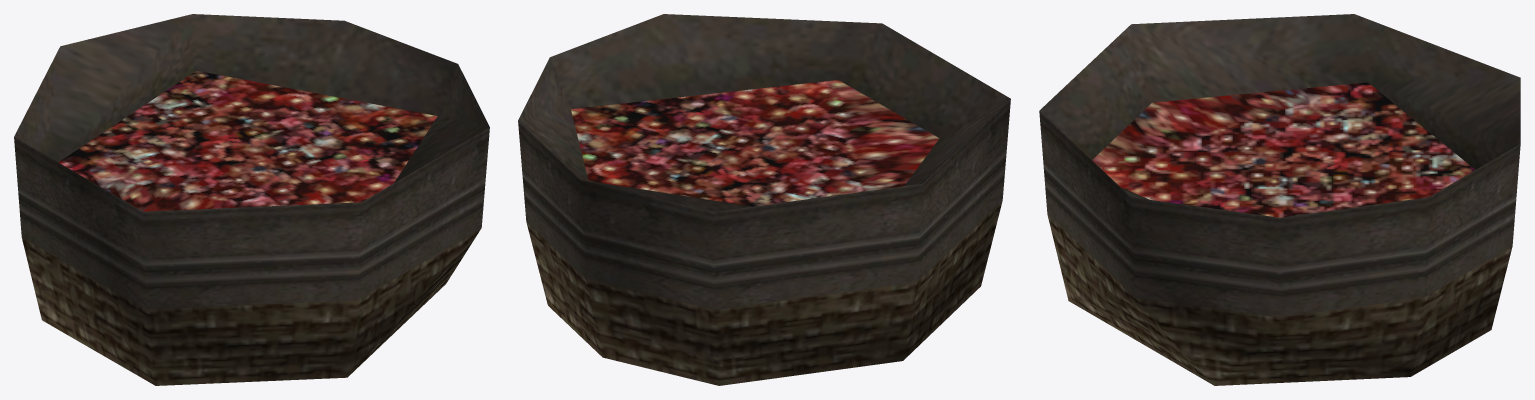
Rendered from edb_con_tato_bowl_full_s02_l1.fbx.
3 renders of one model, left to right at view 1: azimuth 30°, elevation 25°; view 2: azimuth 150°, elevation 25°; view 3: azimuth 270°, elevation 25°, orthographic. The views are drawn at different scales.
Parts seen in each view (by area): view 1: mesh_node; view 2: mesh_node; view 3: mesh_node.
Boxes of the visible parts, x1,y1,x2,y2 form: mesh_node: [14, 14, 489, 385]; mesh_node: [518, 14, 1010, 385]; mesh_node: [1039, 14, 1520, 385].
Size of the model in its own units: 0.5892 by 0.3285 by 0.5884.
